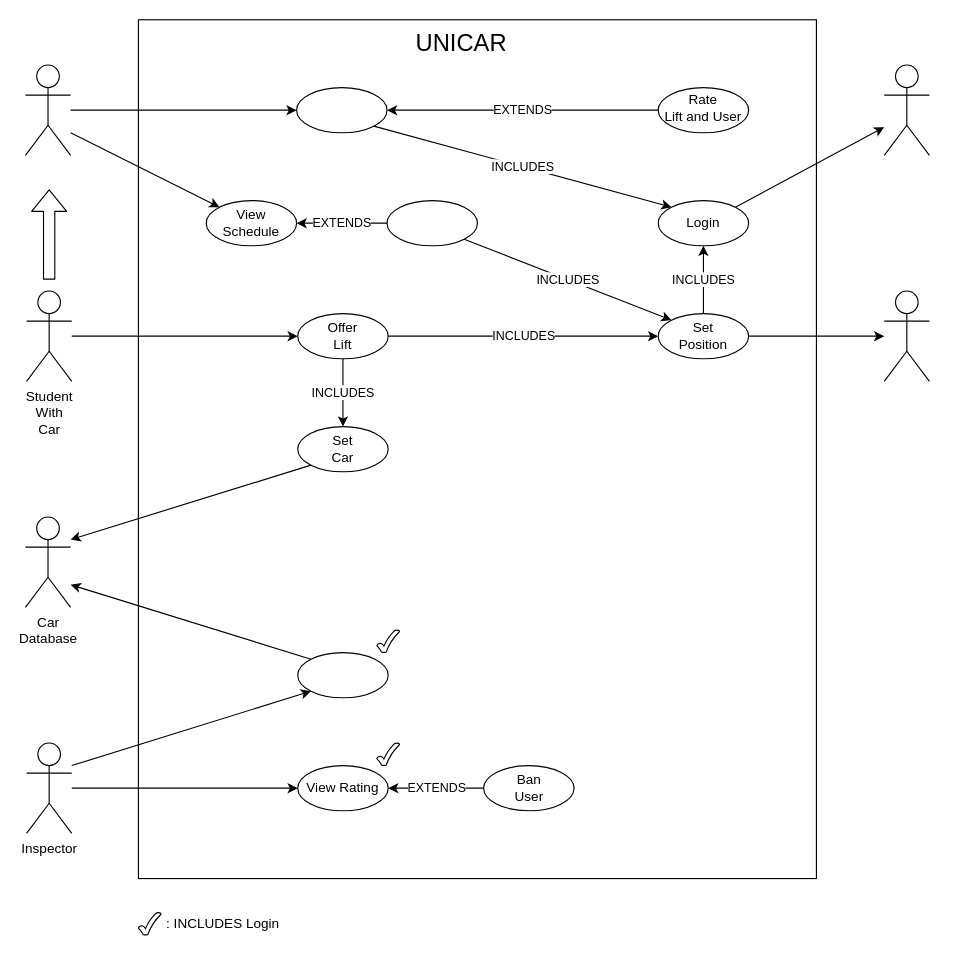
Some shapes in this 962 by 966 pixel diagram are drawn without their labels. The box of each missing label's shape, as (x1, y1, x2, y2) in pixels:
Accept Lift: (295, 86, 387, 133)
Google Maps APIs: (883, 290, 929, 381)
Request Lift: (386, 199, 477, 246)
Student: (24, 64, 71, 155)
Universities Database: (883, 64, 929, 155)
View Car: (297, 651, 388, 698)
